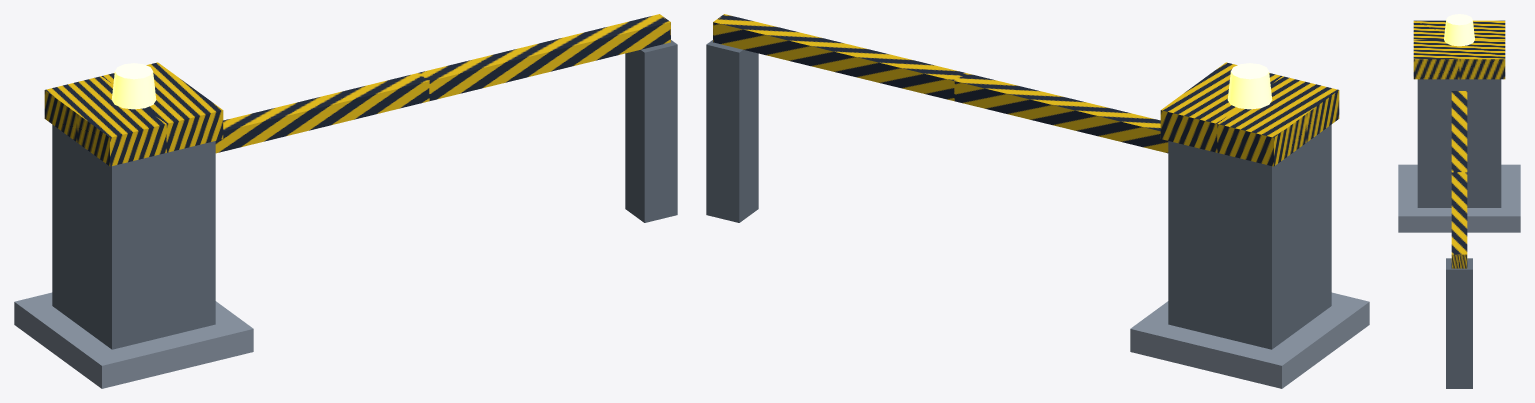
File: gate_security_barrier.glb
3 renders of one model, left to right at view 1: azimuth 30°, elevation 25°; view 2: azimuth 150°, elevation 25°; view 3: azimuth 270°, elevation 25°, orthographic. The views are drawn at different scales.
Parts seen in each view (by area): view 1: gate_security_barrier, barrier_arm_pivot; view 2: gate_security_barrier, barrier_arm_pivot; view 3: gate_security_barrier, barrier_arm_pivot.
Part boxes in pixels (x1,y1,x2,y2): gate_security_barrier: (14,40,677,388); barrier_arm_pivot: (215,14,670,153); gate_security_barrier: (706,40,1369,388); barrier_arm_pivot: (713,14,1168,153); gate_security_barrier: (1398,14,1520,388); barrier_arm_pivot: (1451,91,1467,268).
Bounding box in the file's own units: 4.42 × 1.85 × 1.1.
Materials: 5 (1 with a texture image).
